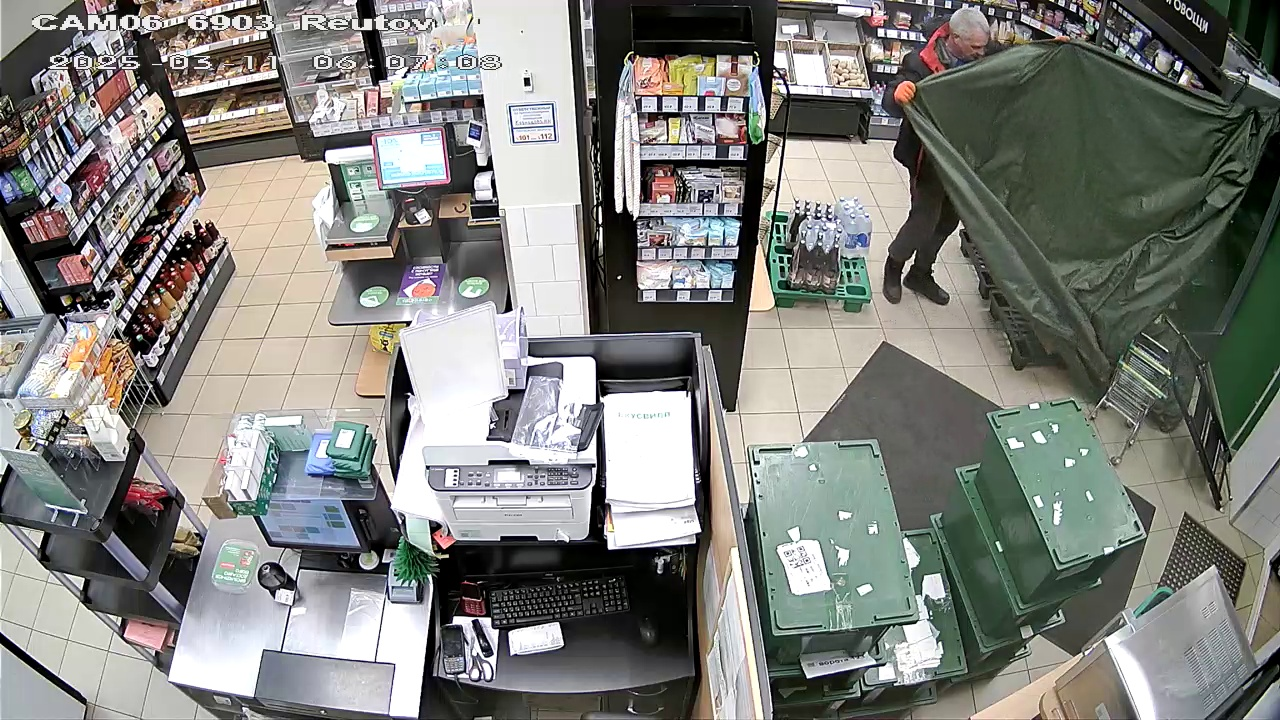Human: (874, 5, 994, 311)
dome: (924, 49, 1231, 375)
